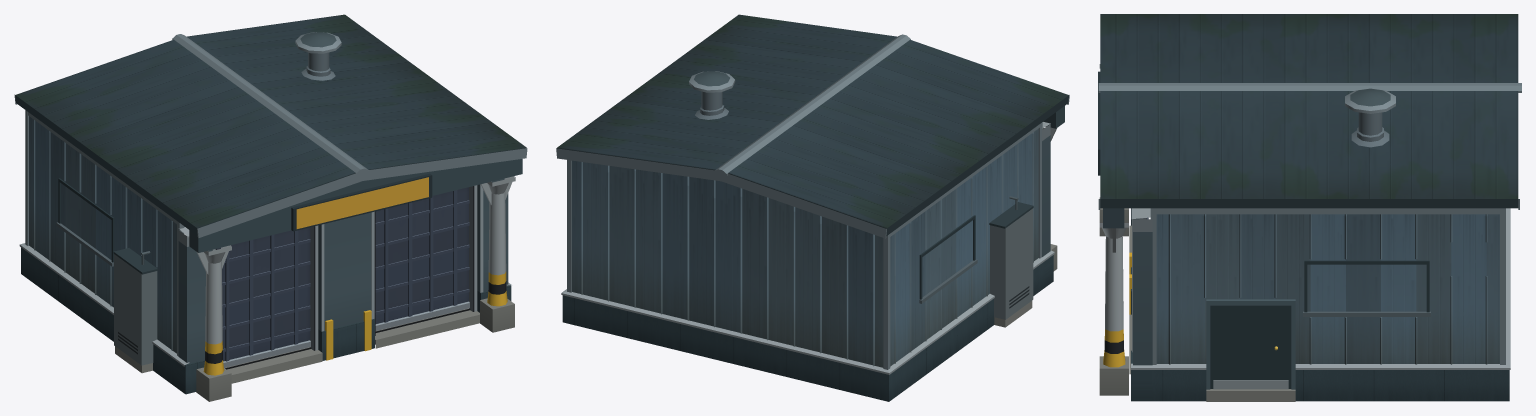
File: yard-maintenance-body-authored-v2.glb
3 renders of one model, left to right at view 1: azimuth 30°, elevation 25°; view 2: azimuth 150°, elevation 25°; view 3: azimuth 270°, elevation 25°, orthographic. The views are drawn at different scales.
Parts seen in each view (by area): view 1: Yard-maintenance-bodyBody; view 2: Yard-maintenance-bodyBody; view 3: Yard-maintenance-bodyBody.
Part boxes in pixels (bbox=[...]): Yard-maintenance-bodyBody: bbox=[14, 14, 527, 401]; Yard-maintenance-bodyBody: bbox=[556, 14, 1069, 401]; Yard-maintenance-bodyBody: bbox=[1098, 14, 1521, 401].
Size of the model in its own units: 12.81 by 8.09 by 12.04.
Materials: 1 (1 with a texture image).
